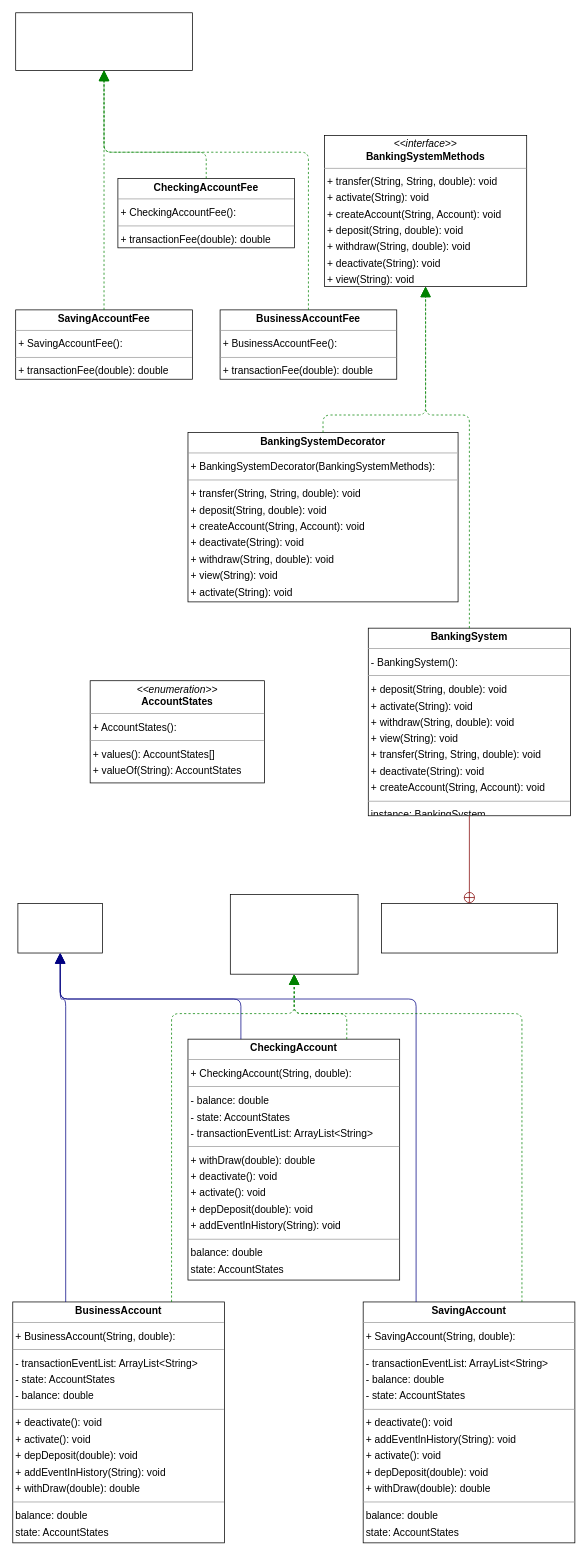
Some shapes in this 588 by 1556 pixel diagram are drawn without their labels. The centre of each missing label's shape, as x and y in pixels:
"<<interface>> AccountActions + activate(): void + deactivate(): void" belongs at point 294,934.
"<<interface>> TransactionFeeStrategy + transactionFee(double): double" belongs at point 103,41.
"Account + Account():" belongs at point 60,928.
"HolderOfBankingSystem + HolderOfBankingSystem():" belongs at point 469,928.
